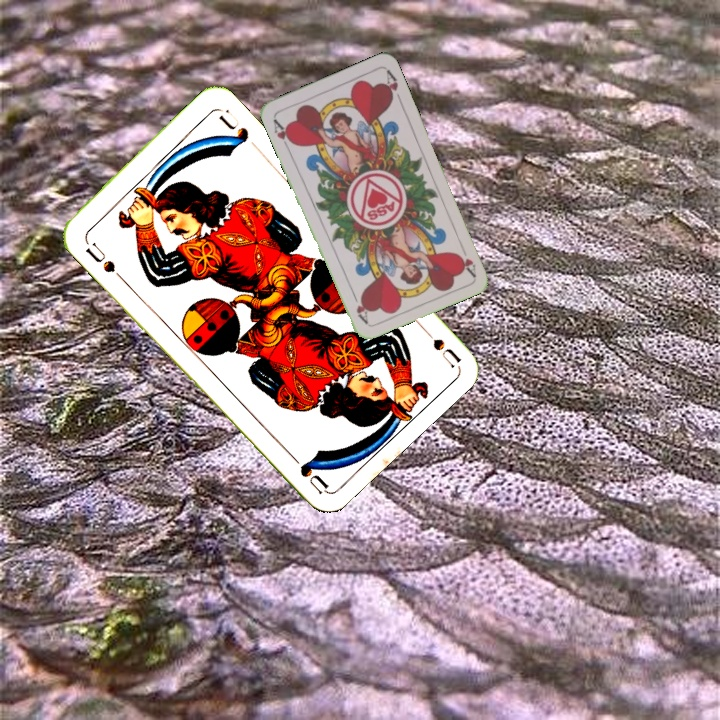HA: (453, 240, 479, 279), (269, 115, 296, 152)
SU: (414, 319, 463, 369), (80, 234, 118, 276)
